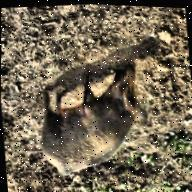boar: (30, 51, 162, 181)
